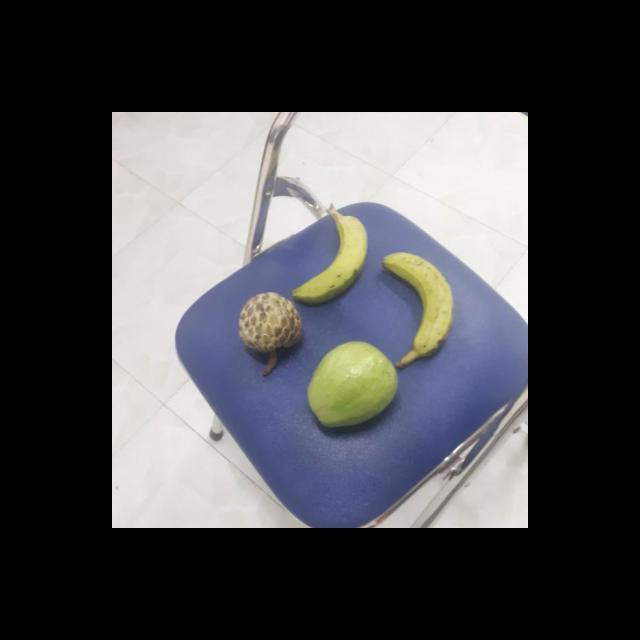Sakya fruit: (238, 292, 306, 371)
banana: (380, 252, 461, 358), (294, 210, 373, 302)
guava: (307, 342, 401, 429)
